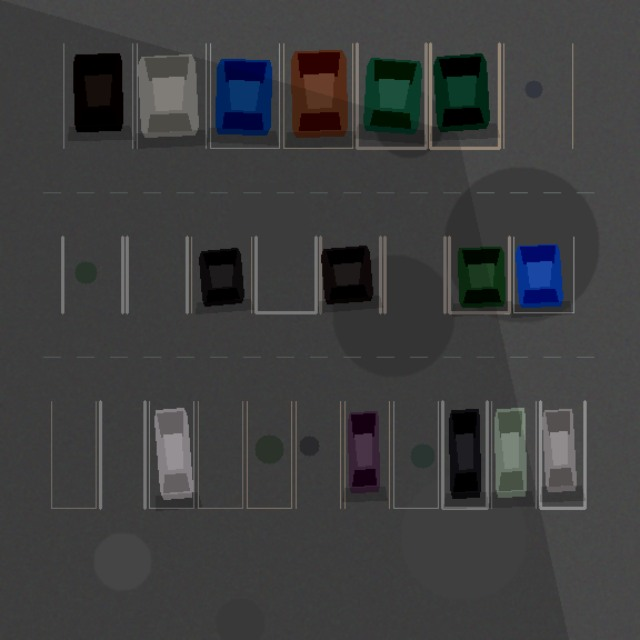space-empty: (503, 43, 572, 148), (51, 401, 96, 508), (393, 401, 438, 508), (100, 401, 144, 508), (198, 401, 242, 508), (247, 401, 291, 508), (296, 401, 340, 508), (62, 237, 122, 312), (127, 237, 187, 312), (256, 237, 316, 312), (384, 237, 444, 312)
space-occupied: (63, 43, 132, 148), (137, 43, 206, 148), (210, 43, 279, 148), (283, 43, 352, 148), (357, 43, 426, 148), (430, 43, 499, 148), (344, 401, 389, 508), (442, 401, 487, 508), (491, 401, 536, 508), (149, 401, 193, 508), (540, 401, 584, 508), (191, 237, 251, 312), (320, 237, 380, 312), (449, 237, 509, 312), (513, 237, 573, 312)
